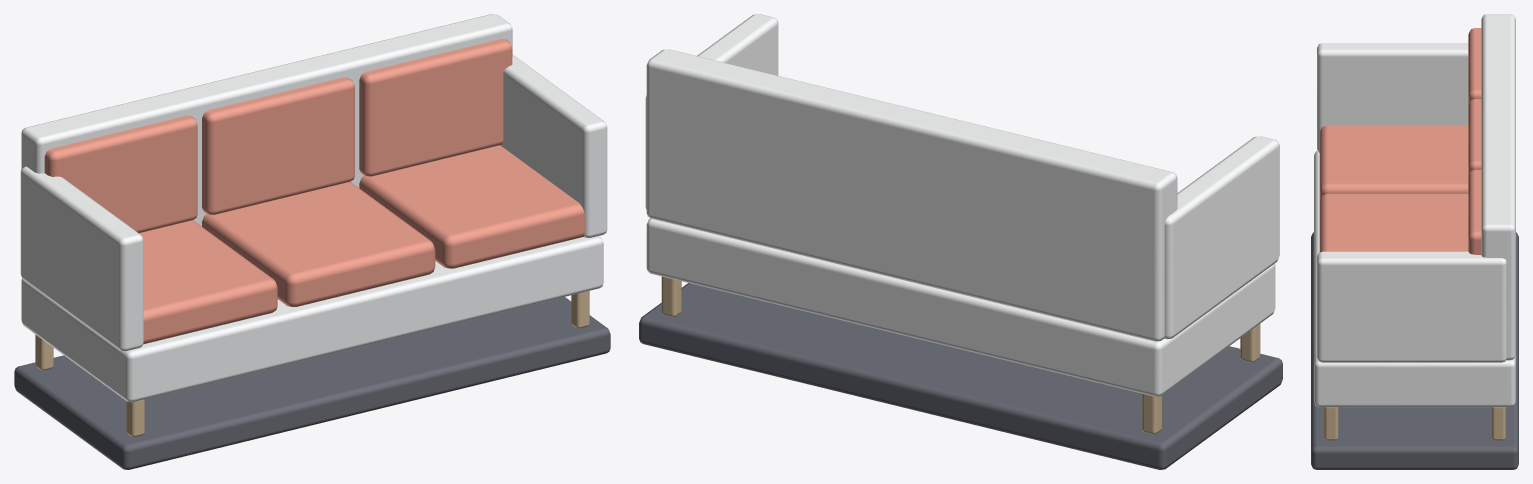
3 renders of one model, left to right at view 1: azimuth 30°, elevation 25°; view 2: azimuth 150°, elevation 25°; view 3: azimuth 270°, elevation 25°, orthographic. The views are drawn at different scales.
Parts seen in each view (by area): view 1: waiting-sofa-run-coral; view 2: waiting-sofa-run-coral; view 3: waiting-sofa-run-coral.
Boxes of the visible parts, x1=… form: waiting-sofa-run-coral: x1=14, y1=14, x2=610, y2=469; waiting-sofa-run-coral: x1=639, y1=14, x2=1282, y2=469; waiting-sofa-run-coral: x1=1311, y1=14, x2=1518, y2=469.
Size of the model in its own units: 1.8 by 0.93 by 0.7199.
